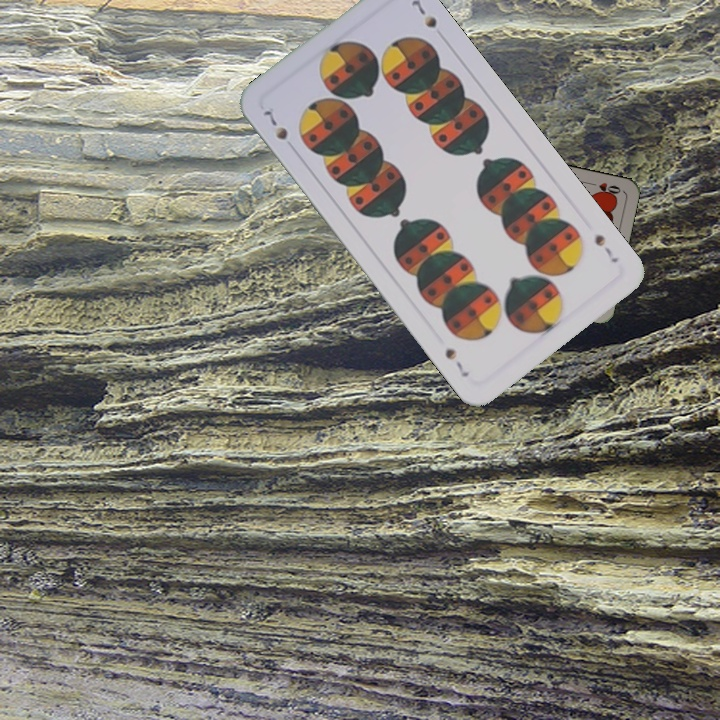HO: (584, 178, 623, 198)
S7: (259, 105, 291, 143), (590, 230, 621, 266)
